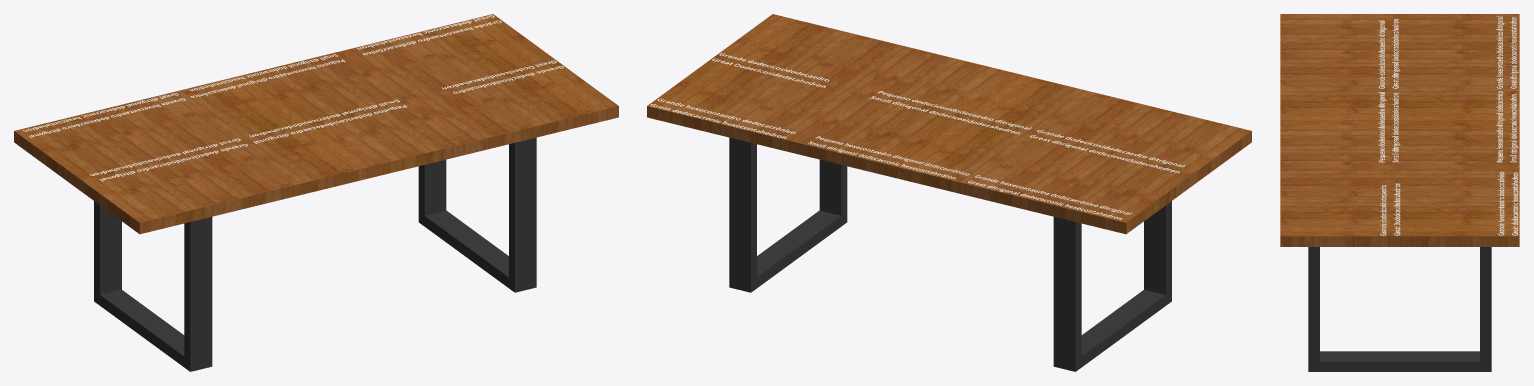
File: mesa_selfIntersect3.glb
The picture shows the model from 3 angles, left to right: view 1: azimuth 30°, elevation 25°; view 2: azimuth 150°, elevation 25°; view 3: azimuth 270°, elevation 25°; orthographic projection. The views are drawn at different scales.
Parts seen in each view (by area): view 1: object 1, Composant#1 (×2), Pequeno hexecont, Grande hexeconta#1, Pequeno dodecico, Grande dodecicos#1, Grande hexeconta, Grande dodecicos; view 2: object 1, Composant#1 (×2), Pequeno hexecont, Grande hexeconta#1, Pequeno dodecico, Grande dodecicos#1, Grande hexeconta, Grande dodecicos; view 3: object 1, Composant#1, Grande hexeconta#1, Pequeno dodecico, Pequeno hexecont, Grande dodecicos#1, Grande hexeconta, Grande dodecicos.
Boxes of the visible parts, box(x1,y1,x2,y2) form: object 1: box(14, 14, 618, 234); Composant#1 (×2): box(94, 137, 536, 371); Pequeno hexecont: box(189, 54, 344, 97); Grande hexeconta#1: box(23, 93, 185, 138); Pequeno dodecico: box(249, 99, 406, 143); Grande dodecicos#1: box(89, 138, 247, 181); Grande hexeconta: box(357, 15, 501, 55); Grande dodecicos: box(442, 60, 563, 93); object 1: box(647, 14, 1251, 234); Composant#1 (×2): box(729, 137, 1171, 371); Pequeno hexecont: box(808, 136, 969, 179); Grande hexeconta#1: box(968, 175, 1131, 219); Pequeno dodecico: box(870, 91, 1031, 134); Grande dodecicos#1: box(1030, 130, 1185, 173); Grande hexeconta: box(650, 98, 795, 138); Grande dodecicos: box(712, 53, 829, 87); object 1: box(1280, 14, 1519, 246); Composant#1: box(1308, 247, 1491, 371); Grande hexeconta#1: box(1496, 16, 1518, 88); Pequeno dodecico: box(1378, 92, 1400, 162); Pequeno hexecont: box(1496, 91, 1518, 162); Grande dodecicos#1: box(1378, 19, 1400, 88); Grande hexeconta: box(1498, 171, 1518, 235); Grande dodecicos: box(1380, 183, 1400, 235).
Size of the model in its own units: 2.2 by 0.771 by 1.
Materials: 3 (1 with a texture image).
